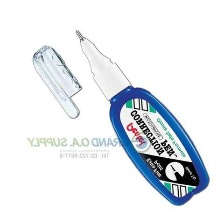correction_fluid: (73, 28, 210, 208)
